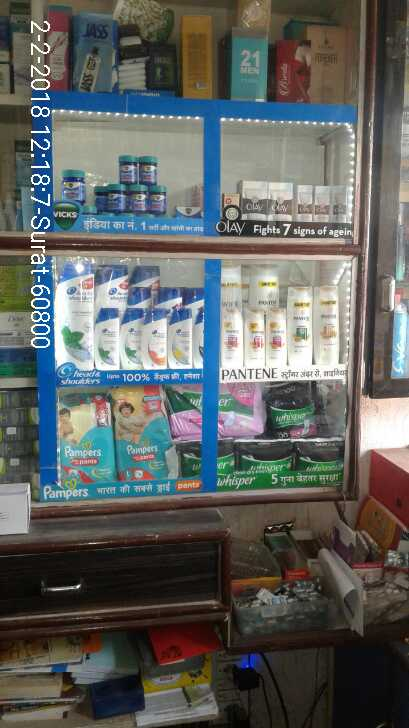beauty: (93, 304, 195, 374), (56, 266, 99, 383), (218, 309, 287, 371), (311, 287, 341, 373), (285, 286, 313, 378)
pharmacy: (52, 150, 173, 211), (111, 388, 178, 482), (52, 396, 122, 483), (241, 442, 346, 479), (263, 392, 320, 439)
